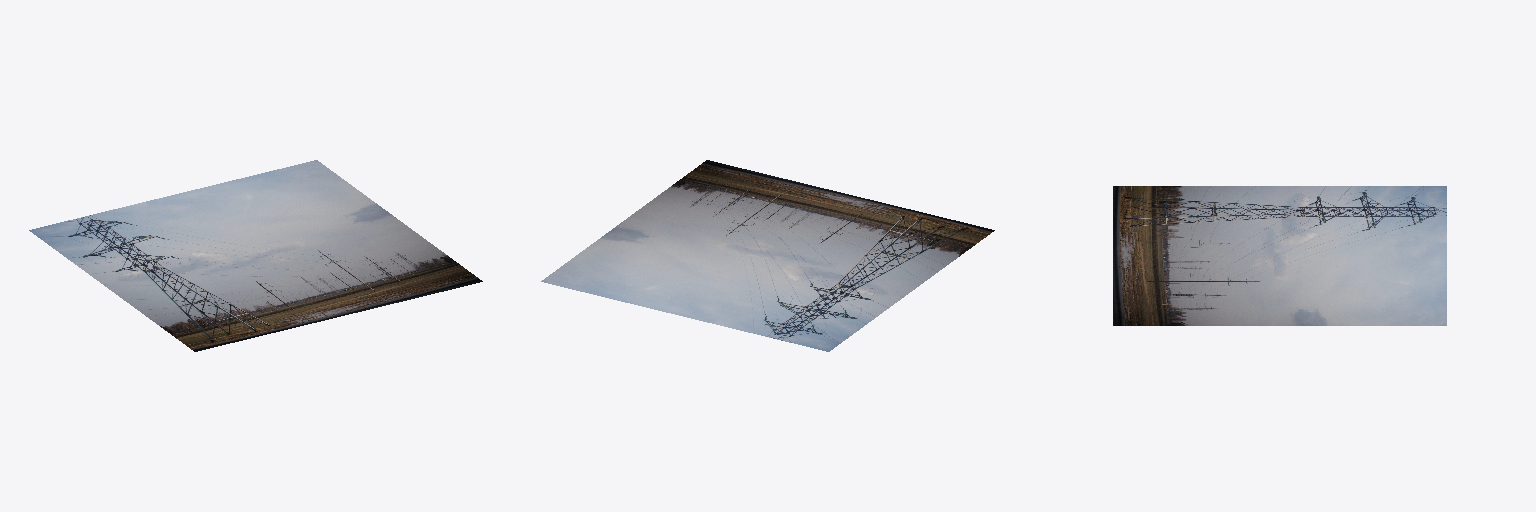
3 views of the same model, side by side, from view 1: azimuth 30°, elevation 25°; view 2: azimuth 150°, elevation 25°; view 3: azimuth 270°, elevation 25° (orthographic).
Parts seen in each view (by area): view 1: Plane; view 2: Plane; view 3: Plane.
Boxes of the visible parts, x1=… form: Plane: x1=29, y1=160, x2=482, y2=351; Plane: x1=541, y1=160, x2=994, y2=351; Plane: x1=1113, y1=186, x2=1446, y2=325.
Bounding box in the file's own units: 2 × 0 × 2.
1 materials, 1 textured.